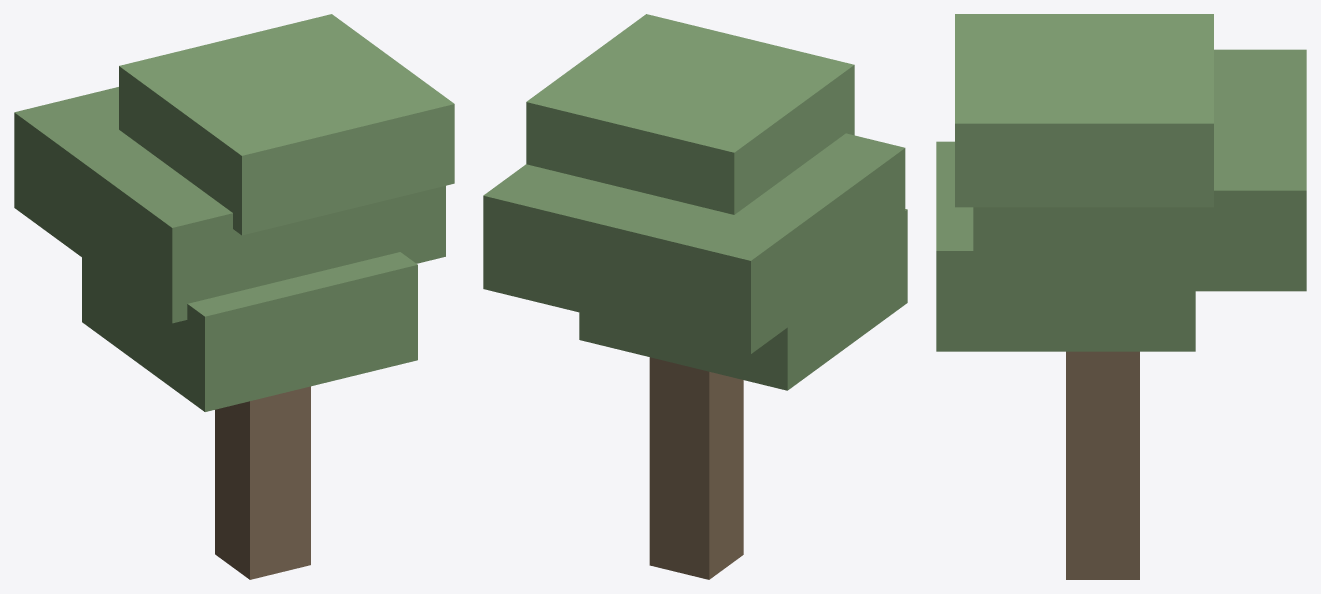
The model's file is tilo_03.glb.
3 renders of one model, left to right at view 1: azimuth 30°, elevation 25°; view 2: azimuth 150°, elevation 25°; view 3: azimuth 270°, elevation 25°, orthographic. The views are drawn at different scales.
Visible parts, largest first — view 1: tilo_03; view 2: tilo_03; view 3: tilo_03.
Part boxes in pixels (x1=…): tilo_03: x1=14, y1=14, x2=454, y2=579; tilo_03: x1=483, y1=14, x2=907, y2=579; tilo_03: x1=936, y1=14, x2=1306, y2=579.
Size of the model in its own units: 1.8 by 3 by 2.
